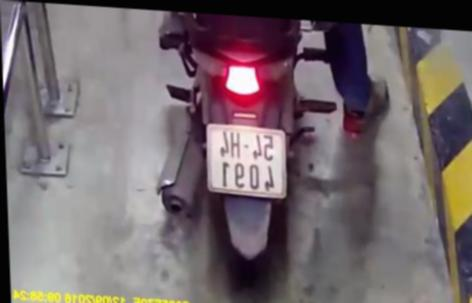License_Plate: (198, 118, 299, 205)
